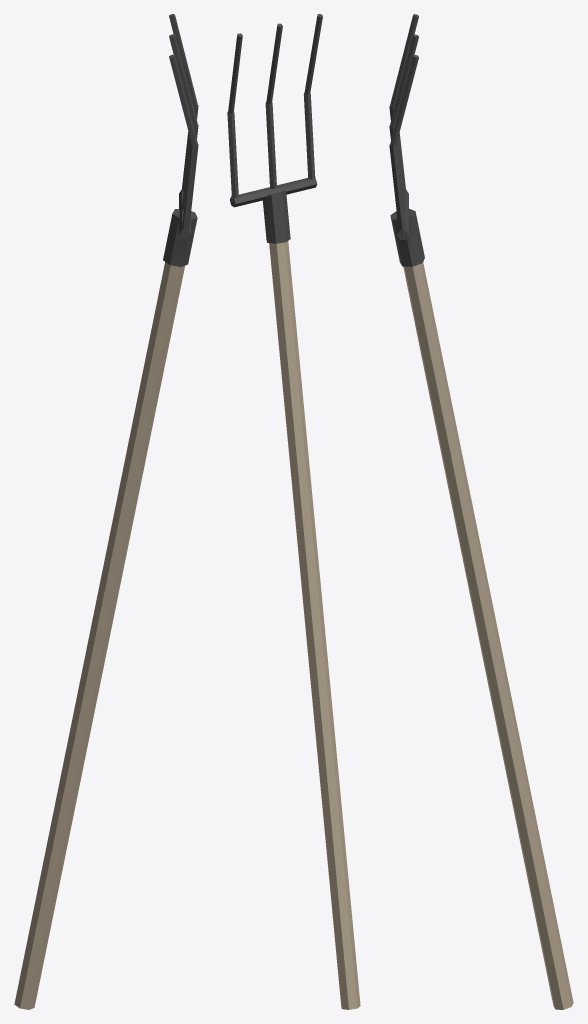
File: pitchfork.glb
The picture shows the model from 3 angles, left to right: view 1: azimuth 90°, elevation 25°; view 2: azimuth 210°, elevation 25°; view 3: azimuth 270°, elevation 25°; orthographic projection. The views are drawn at different scales.
Visible parts, largest first — view 1: static; view 2: static; view 3: static.
Part boxes in pixels (box(x1,y1,x2,y2)): static: box(14, 14, 198, 1009); static: box(227, 14, 360, 1009); static: box(389, 14, 573, 1009).
Bounding box in the file's own units: 0.1561 × 1.63 × 0.2805.
